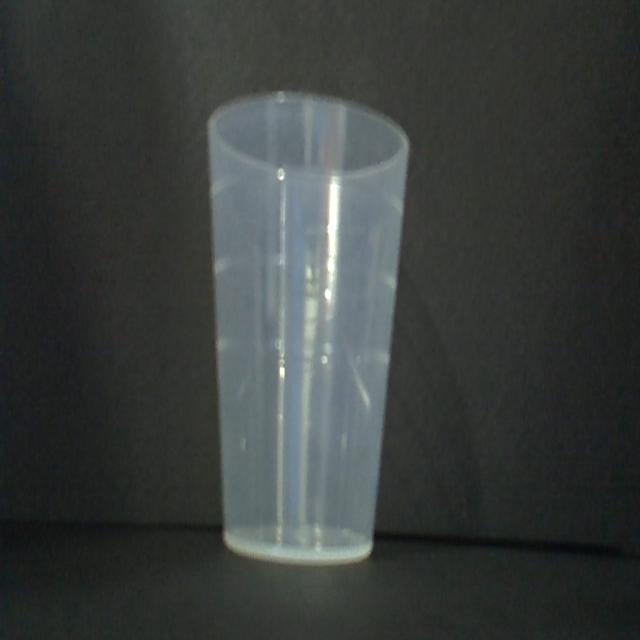cup: (205, 94, 407, 564)
